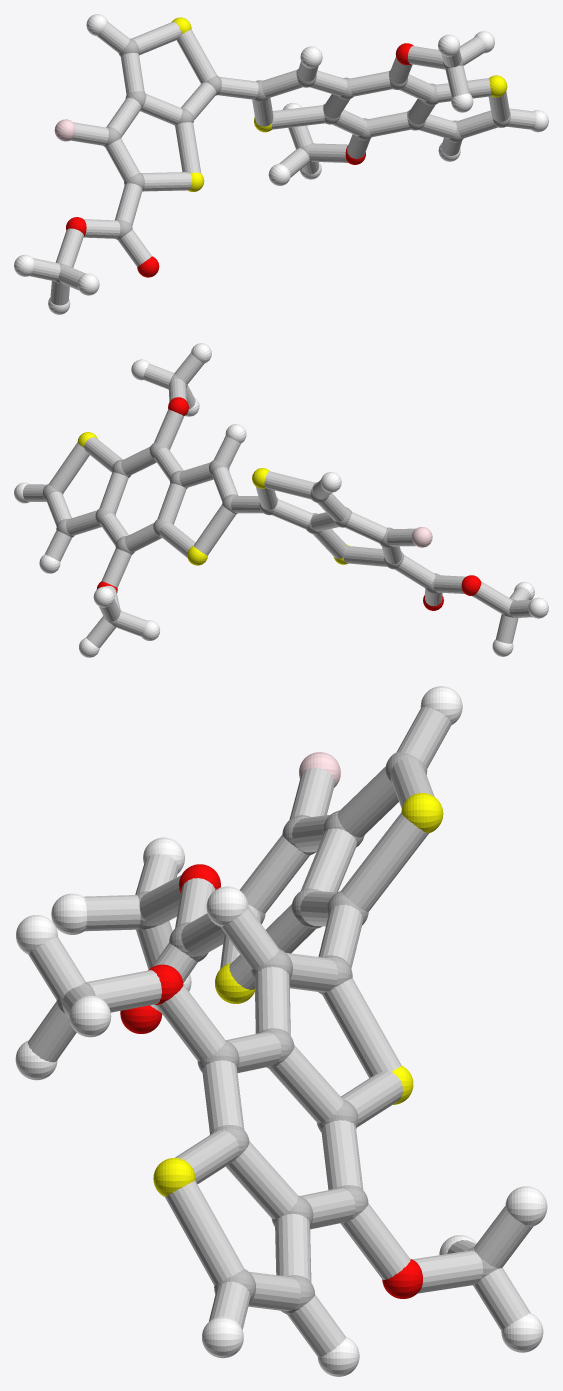
Rendered from color.glb.
The picture shows the model from 3 angles, top to bottom: view 1: azimuth 30°, elevation 25°; view 2: azimuth 150°, elevation 25°; view 3: azimuth 270°, elevation 25°; orthographic projection. The views are drawn at different scales.
Visible parts, largest first — view 1: grp15205, grp8689, grp1, grp13395, grp7241, grp14843; view 2: grp15205, grp8689, grp1, grp13395, grp7241; view 3: grp15205, grp8689, grp1, grp7241, grp13395.
Boxes of the visible parts, x1,y1,x2,y2 form: grp15205: (29, 21, 536, 305); grp8689: (14, 14, 548, 314); grp1: (54, 38, 510, 284); grp13395: (66, 43, 413, 277); grp7241: (172, 17, 507, 191); grp14843: (54, 119, 75, 141); grp15205: (23, 353, 532, 648); grp8689: (14, 343, 548, 657); grp1: (42, 374, 516, 626); grp13395: (96, 397, 481, 610); grp7241: (77, 432, 349, 565); grp15205: (28, 707, 533, 1357); grp8689: (15, 686, 547, 1376); grp1: (56, 751, 497, 1314); grp7241: (153, 793, 443, 1196); grp13395: (120, 864, 422, 1298).
Size of the model in its own units: 17.07 by 7.04 by 7.6.
